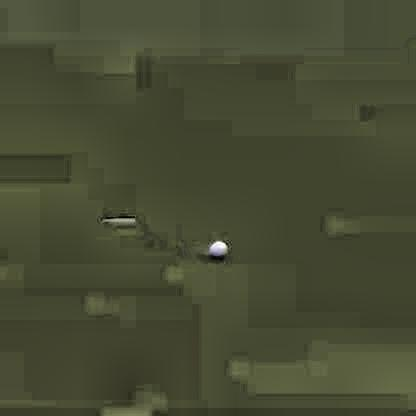golfball: (206, 238, 226, 258)
